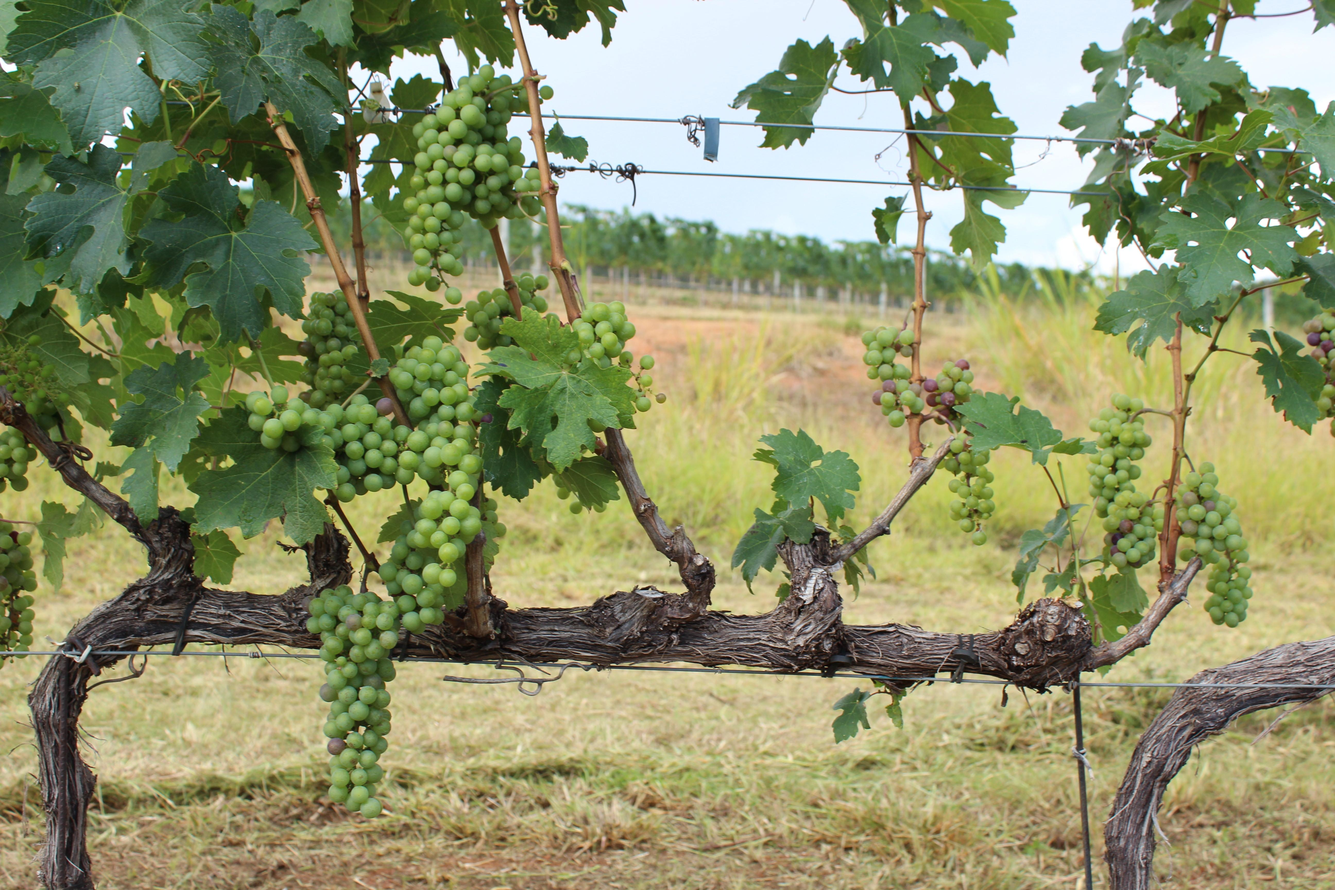leaf: (140, 164, 316, 340), (8, 0, 209, 148), (190, 408, 337, 543), (209, 5, 343, 152), (1156, 193, 1299, 305), (25, 144, 131, 293), (732, 37, 839, 148), (111, 353, 209, 472), (1094, 264, 1218, 358), (753, 429, 861, 521), (474, 378, 544, 499), (1135, 38, 1246, 114), (956, 392, 1063, 465), (1250, 329, 1325, 433), (0, 77, 74, 155), (367, 291, 463, 349), (939, 0, 1015, 56), (554, 455, 620, 507), (121, 448, 160, 524), (191, 529, 241, 584), (295, 0, 354, 46), (832, 689, 873, 743), (1295, 253, 1335, 308), (377, 499, 420, 543), (546, 117, 588, 162), (872, 195, 906, 244), (29, 223, 32, 229), (975, 62, 977, 64)
